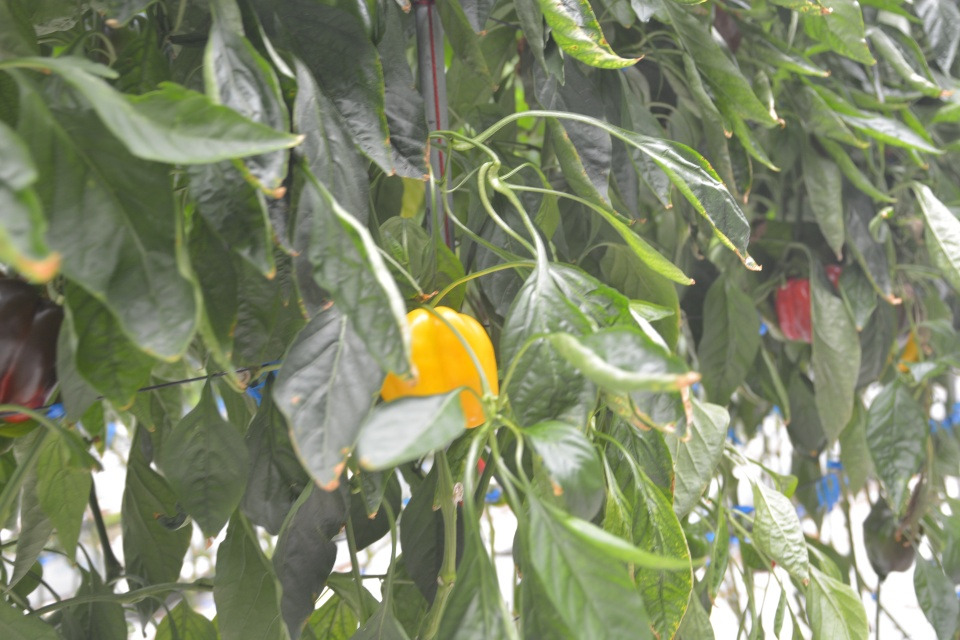fruit: (377, 304, 500, 429), (0, 274, 66, 428), (774, 262, 844, 345)
